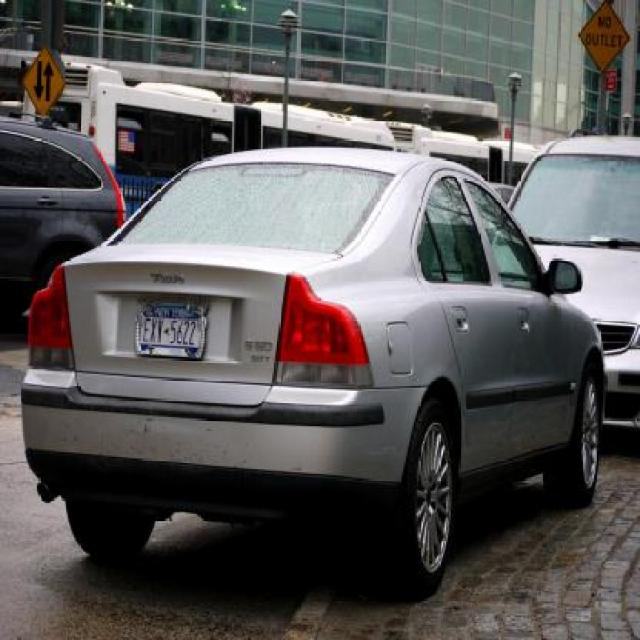License-Plates: (130, 294, 214, 365)
